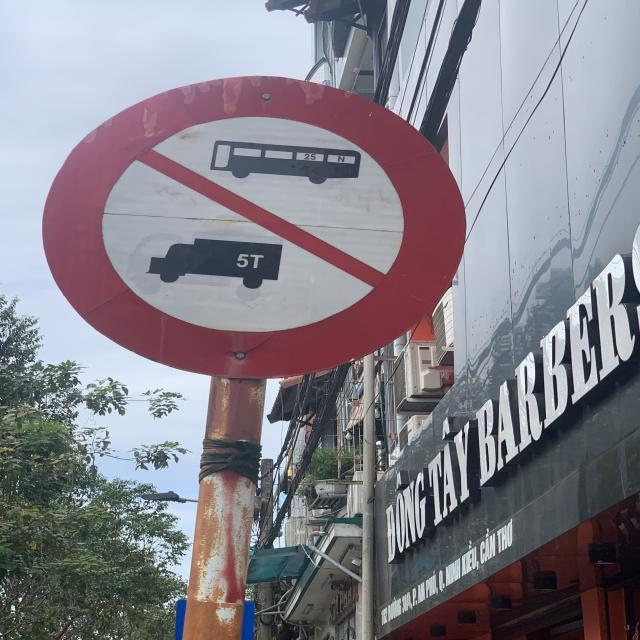Cam_XeTai_XeKhach: (43, 75, 467, 383)
